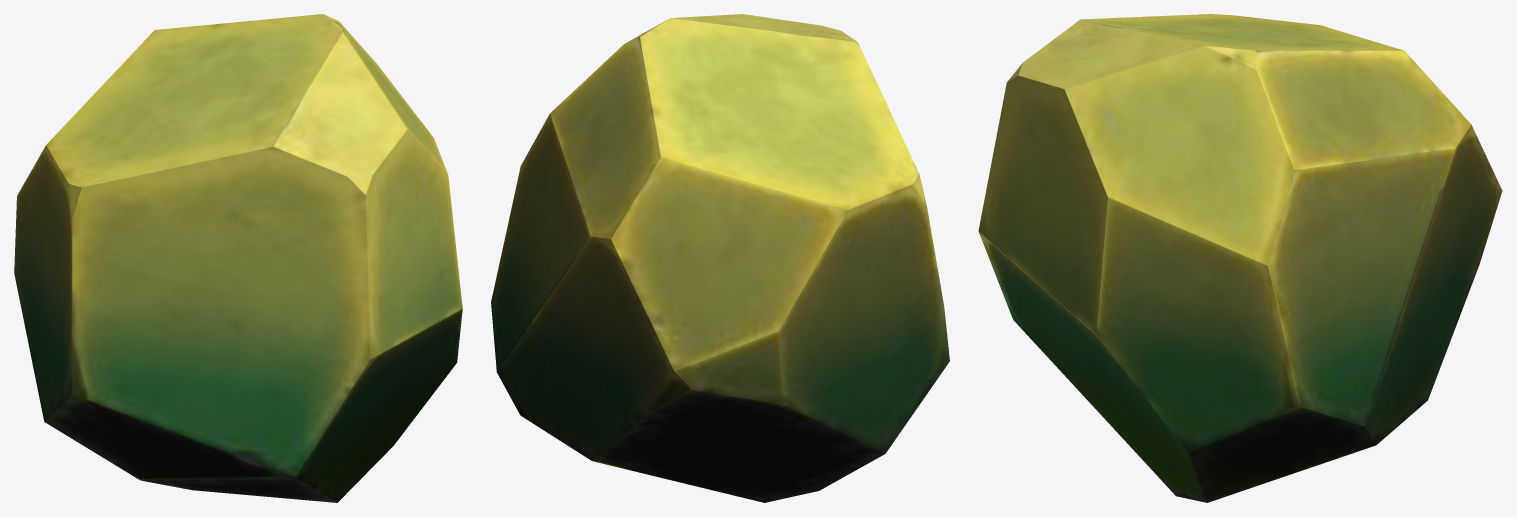
Rendered from rock-small-2.glb.
3 views of the same model, side by side, from view 1: azimuth 30°, elevation 25°; view 2: azimuth 150°, elevation 25°; view 3: azimuth 270°, elevation 25° (orthographic). The views are drawn at different scales.
Parts seen in each view (by area): view 1: S_Rock_03_12; view 2: S_Rock_03_12; view 3: S_Rock_03_12.
Boxes of the visible parts, <box> form: S_Rock_03_12: <box>14,14,462,502</box>; S_Rock_03_12: <box>491,14,949,502</box>; S_Rock_03_12: <box>978,14,1502,502</box>.
Size of the model in its own units: 1.2 by 1.26 by 1.3.
1 material, 1 textured.
